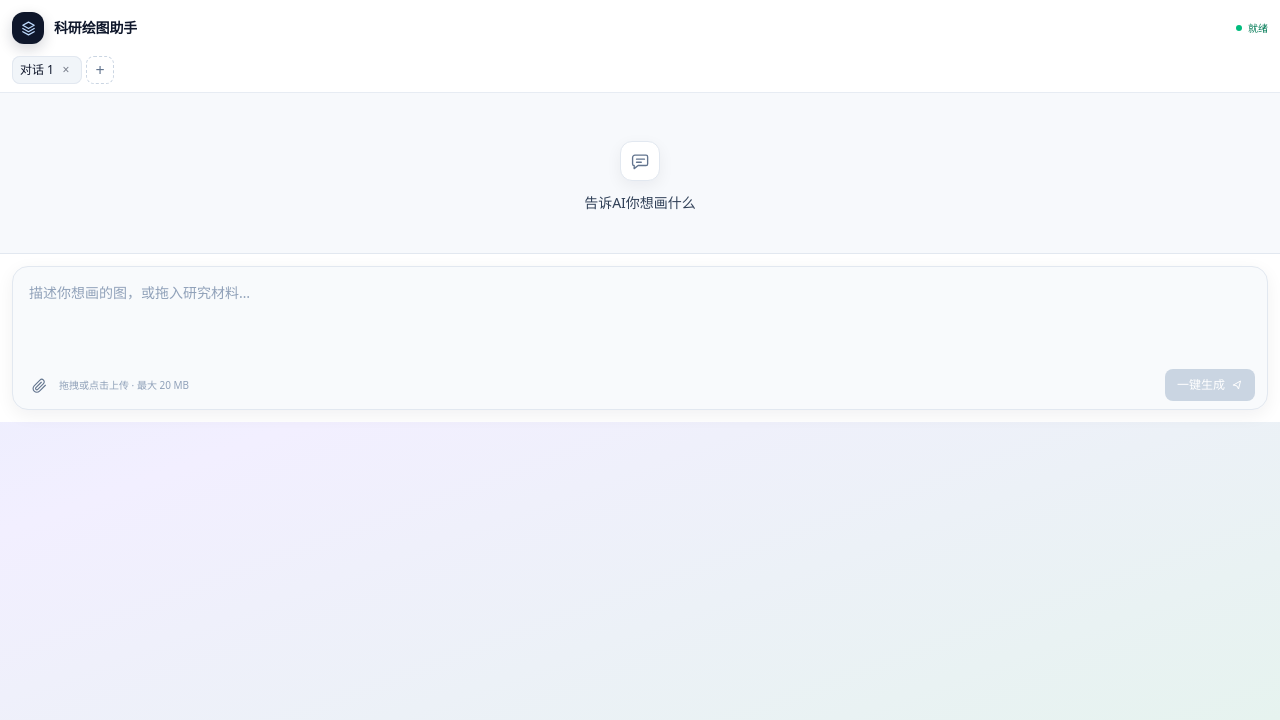
ChatPanel › AI 选项最后强制为其他，点击后输入自定义答案再继续生成
Step 1. Type "画个模型图" into the text box with placeholder "描述你想画的图，或拖入研究材料…" → (640, 317), box [21,275,1259,359]
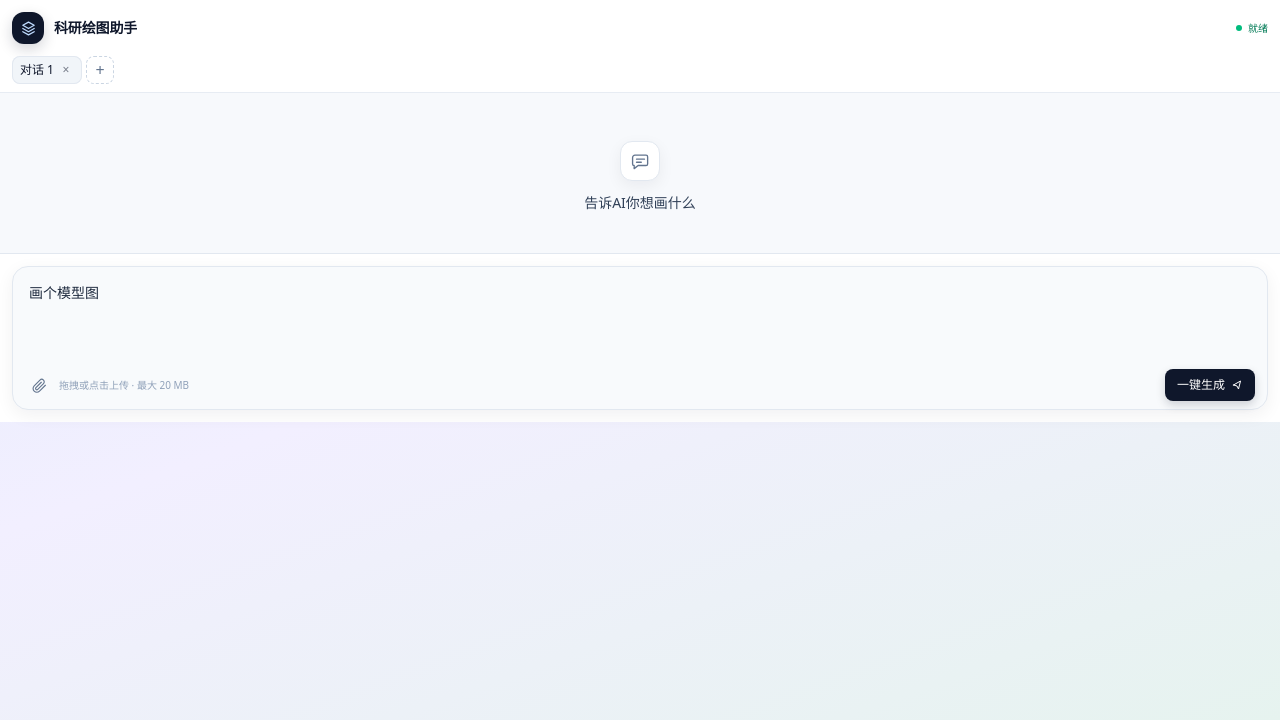
Step 2. Click the button "一键生成" → (1210, 385), box [1165,369,1255,401]
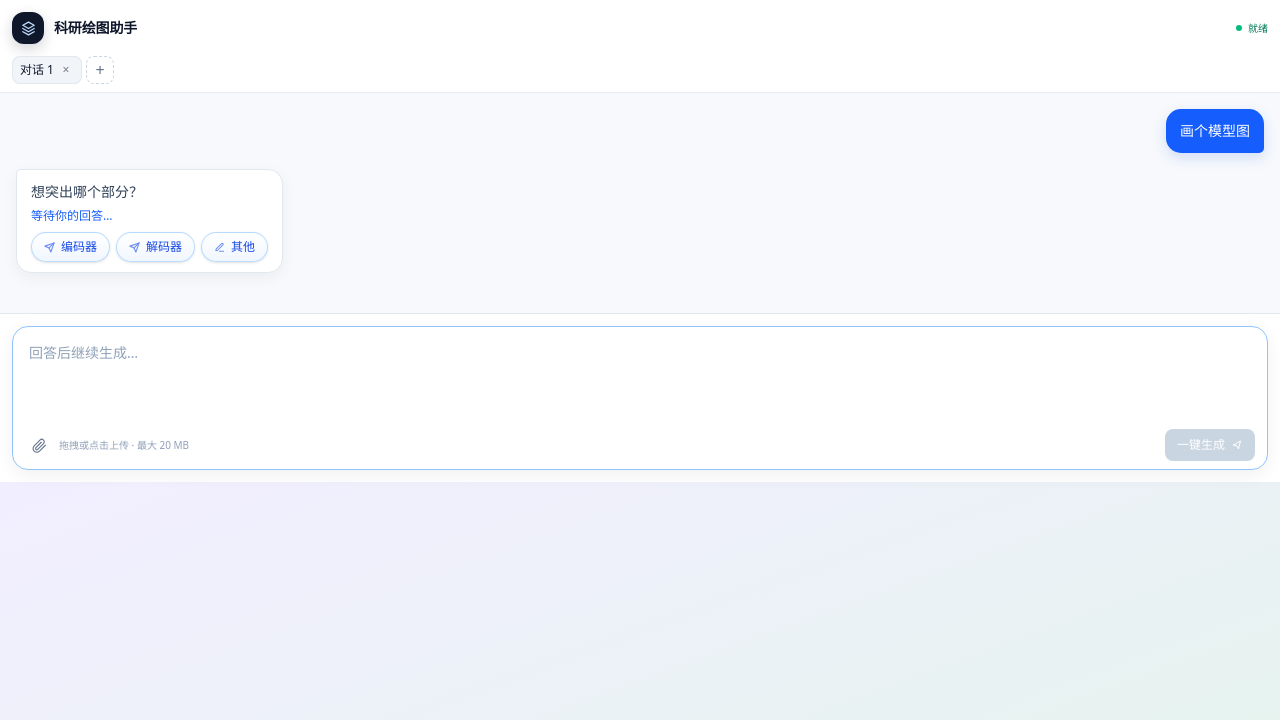
Expected: the button "其他" is shown
Step 3. Click the button "其他" → (234, 247), box [201,232,268,262]
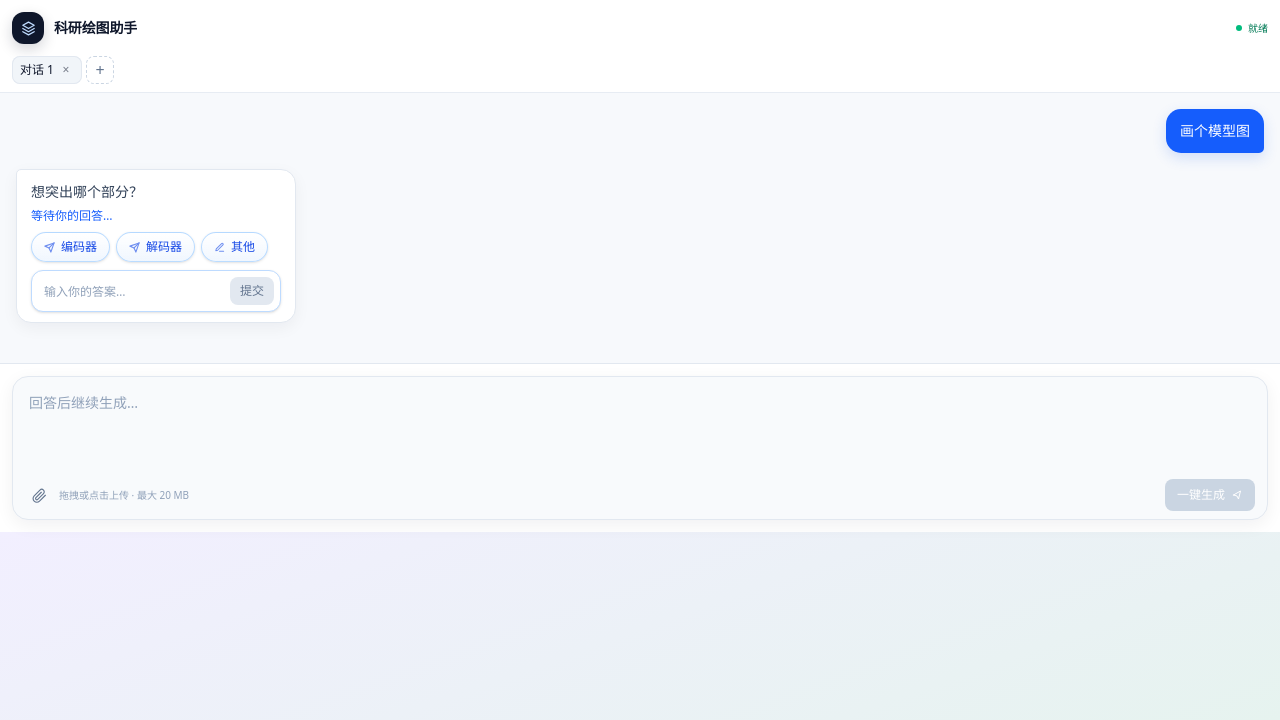
Expected: the element with test id "custom-answer-box" is shown, [31,270,281,312]
Step 4. Type "重点展示跨层注意力" into the field with test id "custom-answer-input" → (131, 291), box [38,277,224,305]
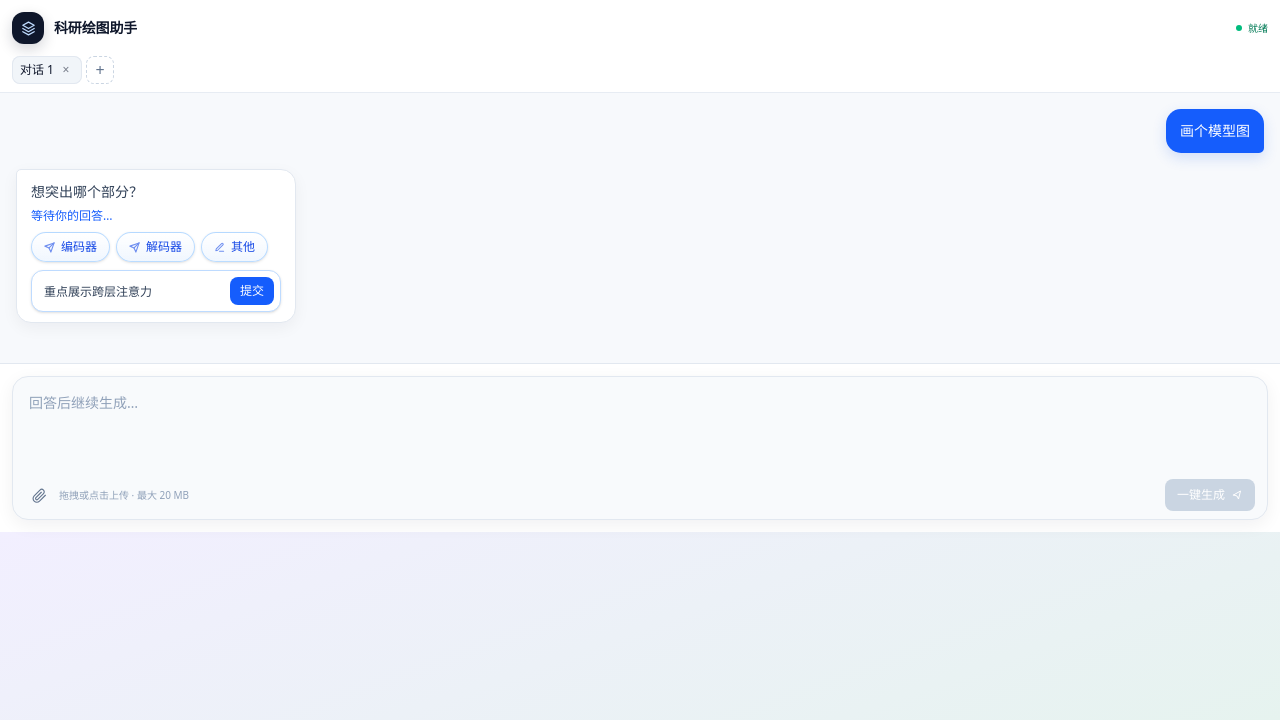
Step 5. Click the button "提交" → (252, 291), box [230,277,274,305]
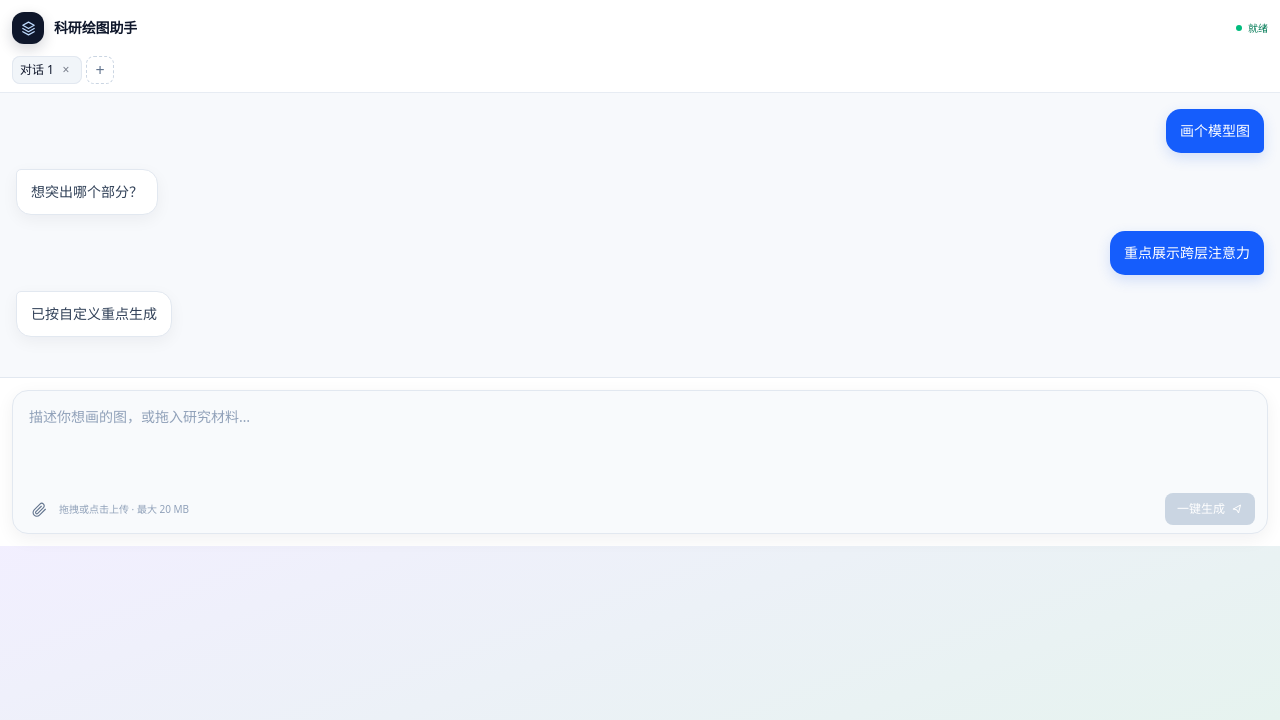
Expected: the text "已按自定义重点生成" is shown, [16,291,172,337]
Expected: the element with test id "custom-answer-box" is gone
